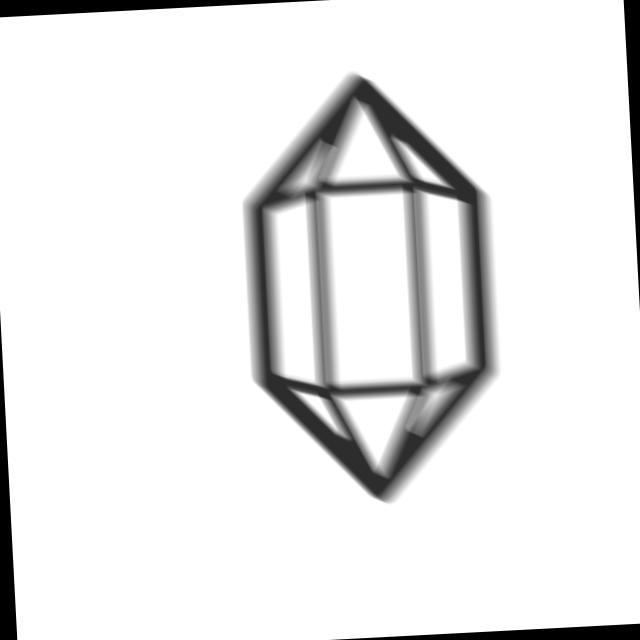crystal: (228, 60, 519, 519)
